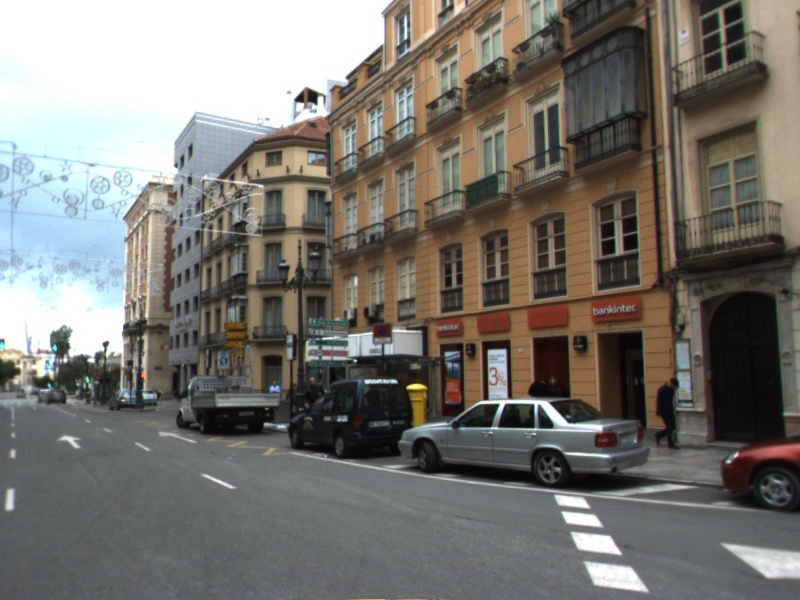STRAIGHT: (157, 429, 200, 445), (54, 433, 84, 451)
